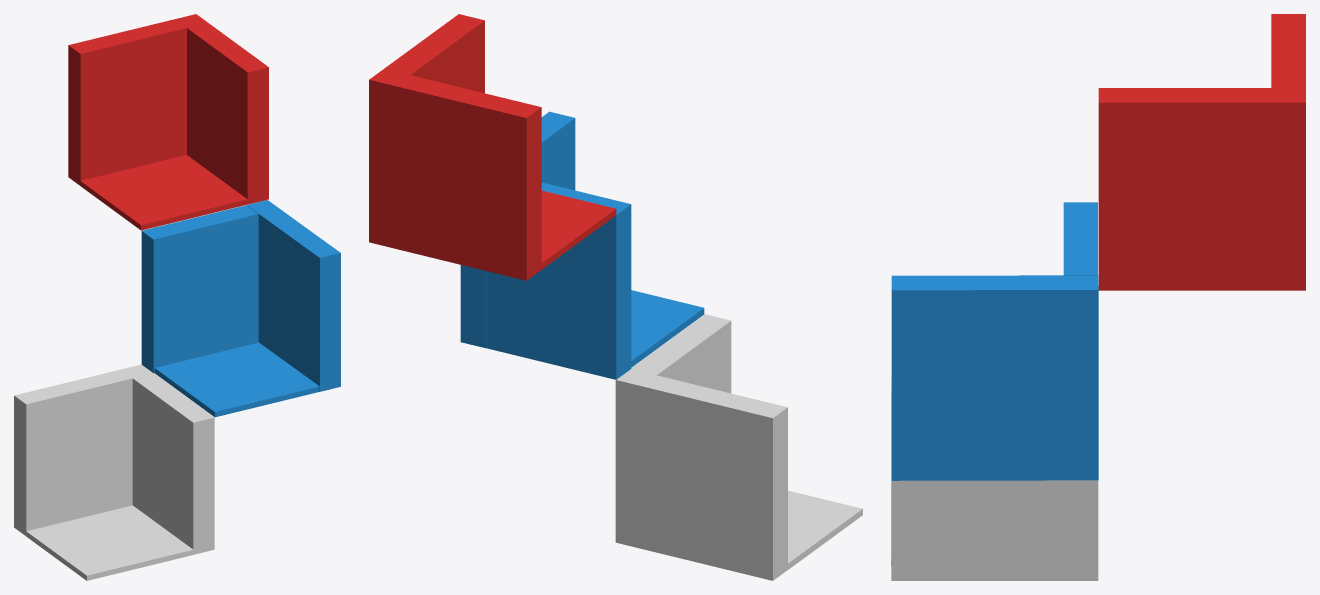
Rendered from AMERICA.glb.
3 views of the same model, side by side, from view 1: azimuth 30°, elevation 25°; view 2: azimuth 150°, elevation 25°; view 3: azimuth 270°, elevation 25° (orthographic). The views are drawn at different scales.
Visible parts, largest first — view 1: Cube.005, Cube.002, Cube.006; view 2: Cube.002, Cube.006, Cube.005; view 3: Cube.005, Cube.006, Cube.002.
Boxes of the visible parts, box(x1,y1,x2,y2) form: Cube.005: box(141, 200, 340, 417); Cube.002: box(14, 364, 214, 580); Cube.006: box(68, 14, 268, 230); Cube.002: box(615, 314, 862, 580); Cube.006: box(369, 14, 616, 280); Cube.005: box(460, 111, 704, 379); Cube.005: box(891, 202, 1098, 480); Cube.006: box(1098, 14, 1305, 290); Cube.002: box(891, 378, 1098, 580).
Bounding box in the file's own units: 4.57 × 6.81 × 4.52.
